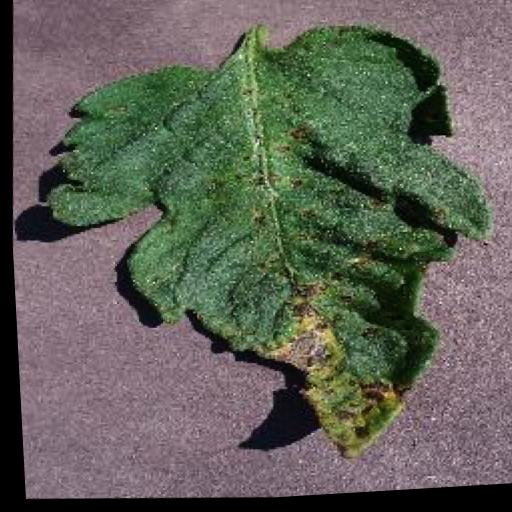Septoria: (23, 3, 507, 497)
